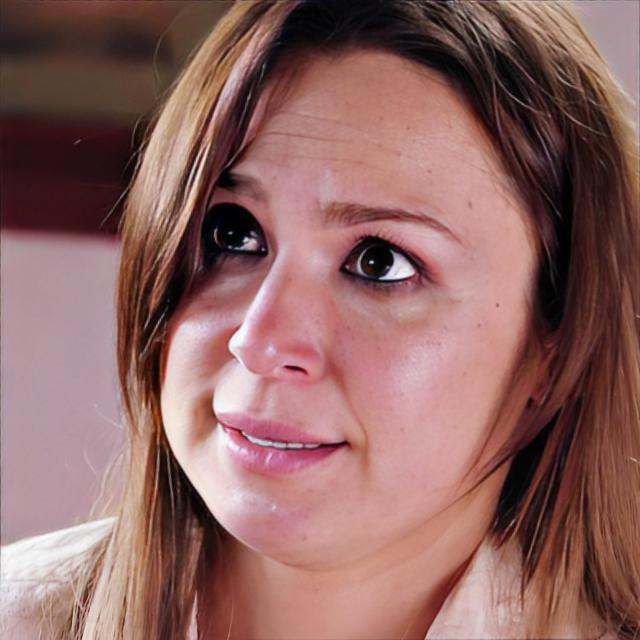sad: (157, 36, 534, 566)
